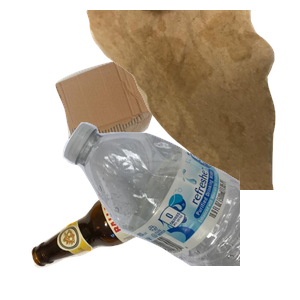cardboard: (53, 45, 221, 204)
glass: (29, 150, 238, 300)
plastic: (60, 120, 300, 300)
trash: (84, 10, 300, 190)
